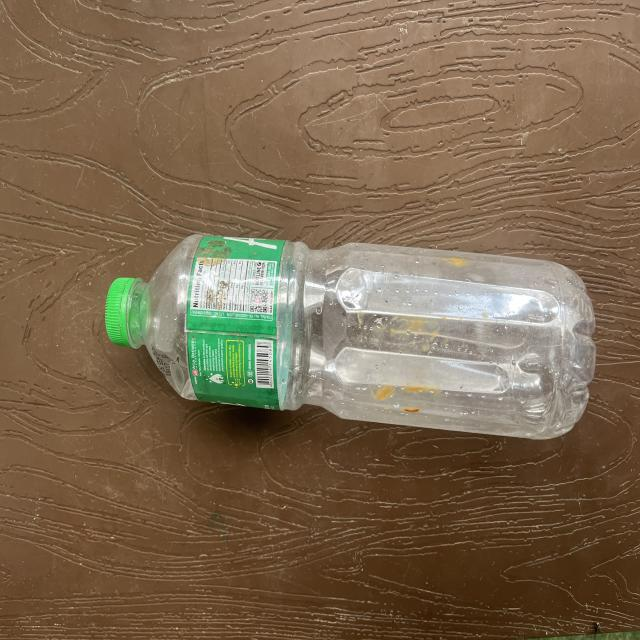REJECT: (91, 217, 612, 471)
